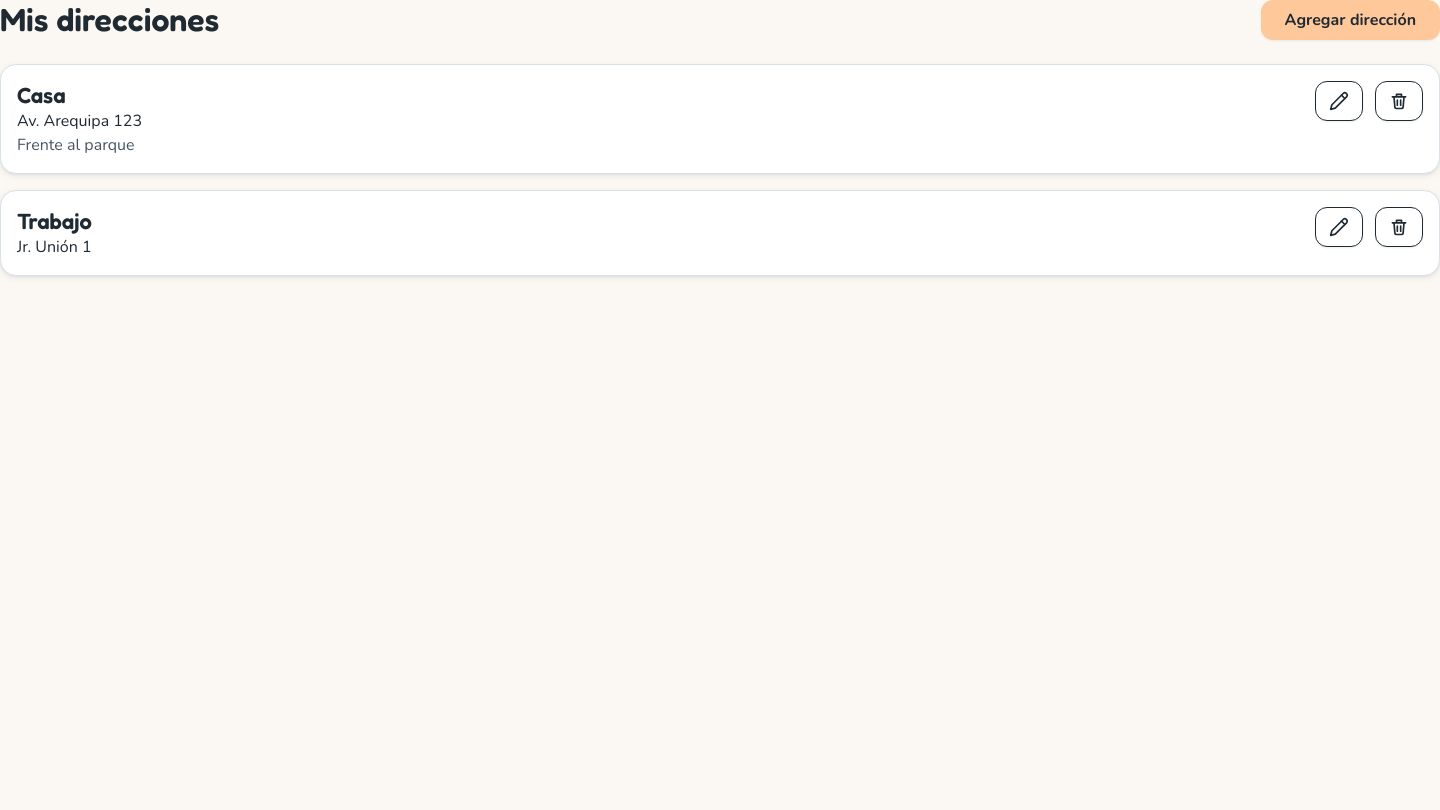
Scenario: MyAddressesPage › eliminar pide confirmación y quita la tarjeta
Click the button named "Eliminar Casa". click: (1399, 101)
box: [1375,81,1423,121]
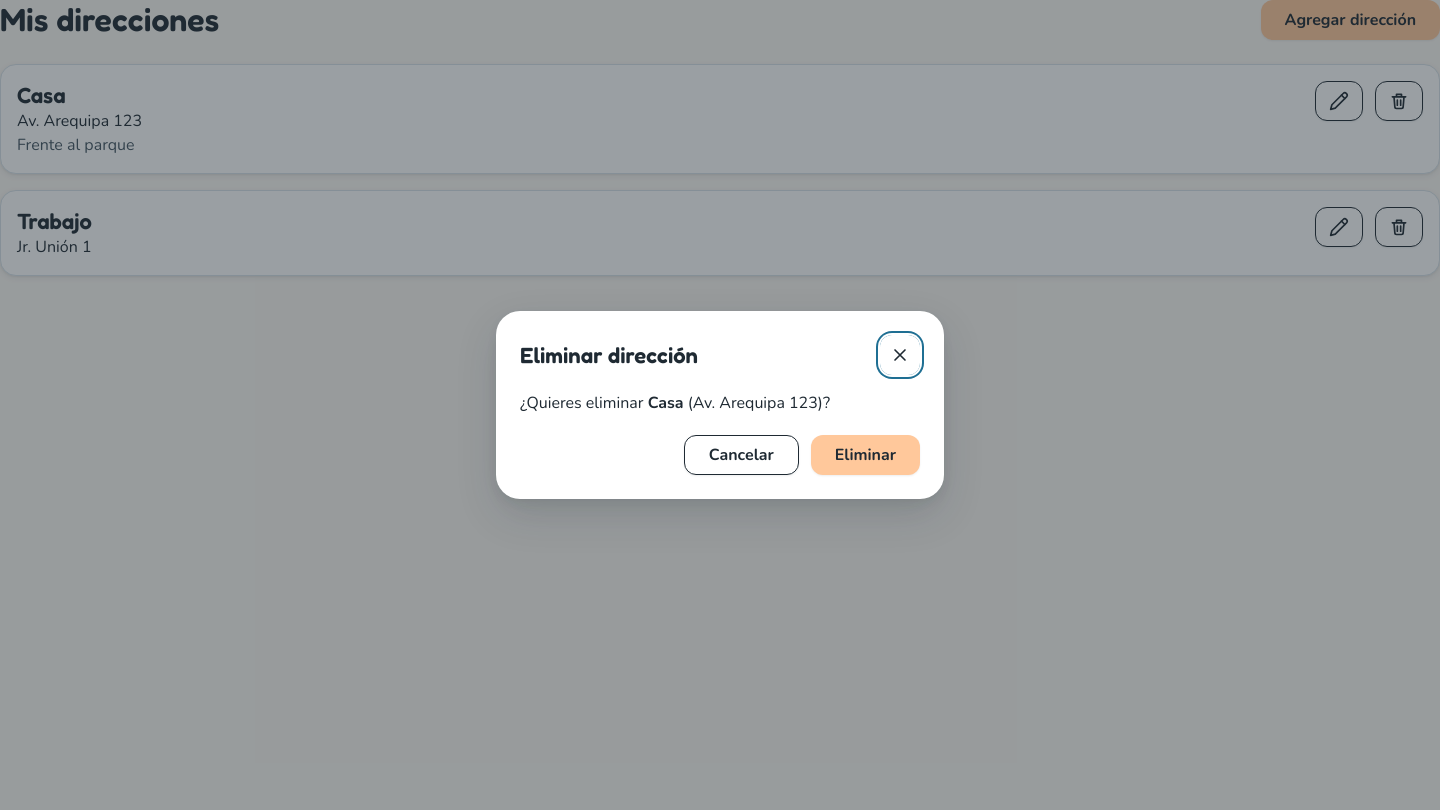
Click the button "Eliminar". click: (865, 455)
box: [811,435,920,475]
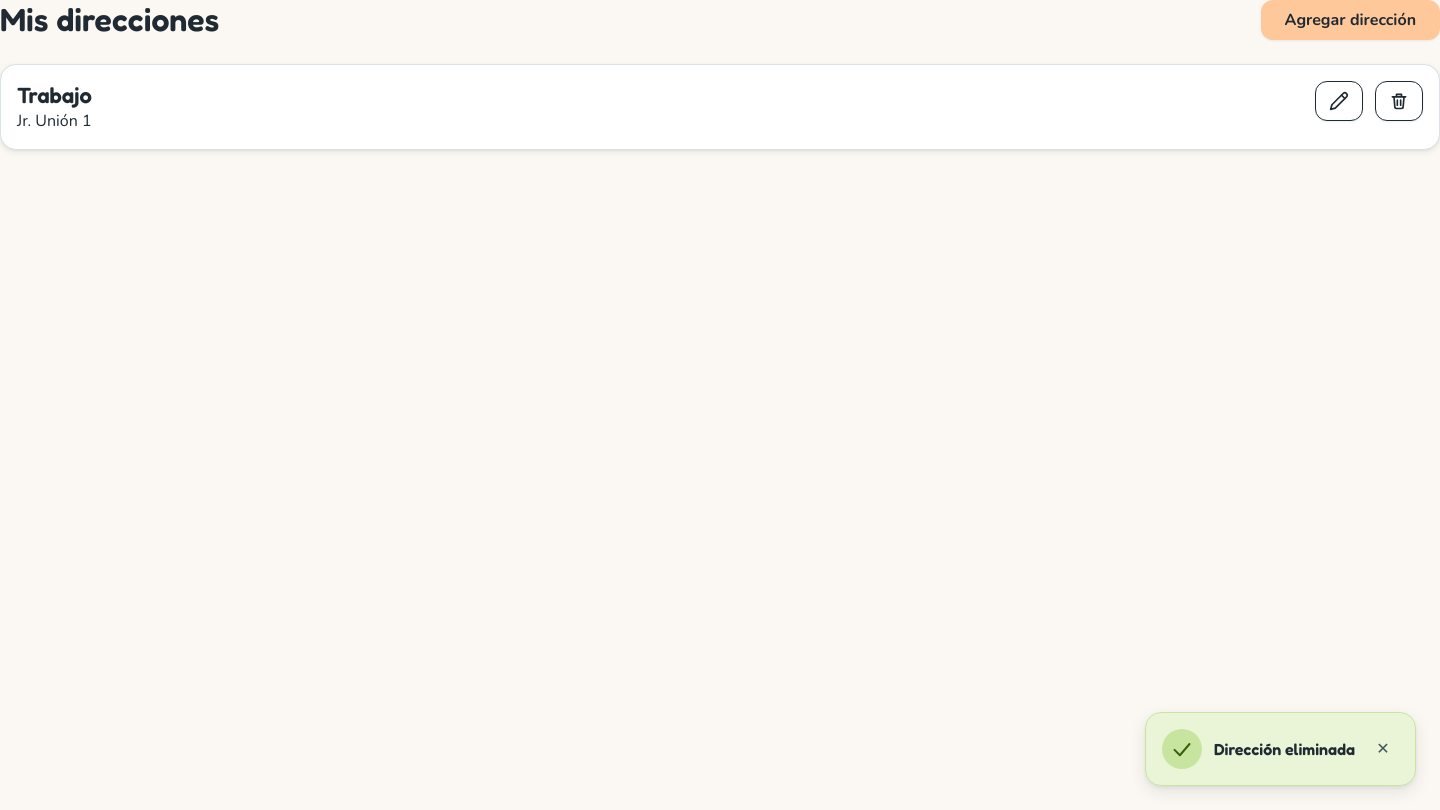
Expected: the text "Jr. Unión 1" is shown, [17,109,92,133]
Now the text "Dirección eliminada" is shown, box [1214,737,1355,761]
Now the text "Av. Arequipa 123" is gone
